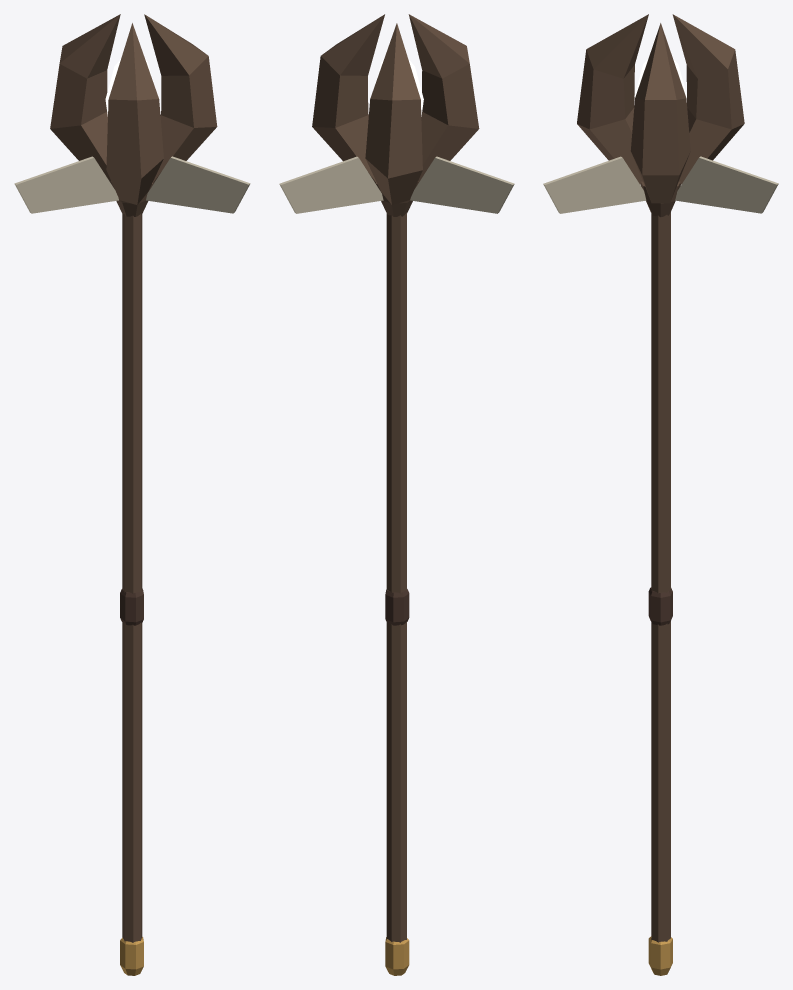
The model's file is ward_staff.glb.
3 renders of one model, left to right at view 1: azimuth 30°, elevation 25°; view 2: azimuth 150°, elevation 25°; view 3: azimuth 270°, elevation 25°, orthographic.
Visible parts, largest first — view 1: ward_staff; view 2: ward_staff; view 3: ward_staff.
Part boxes in pixels (x1,y1,x2,y2): ward_staff: (14, 14, 250, 975); ward_staff: (279, 14, 514, 975); ward_staff: (543, 14, 778, 975).
Bounding box in the file's own units: 0.4937 × 2.34 × 0.5234.
